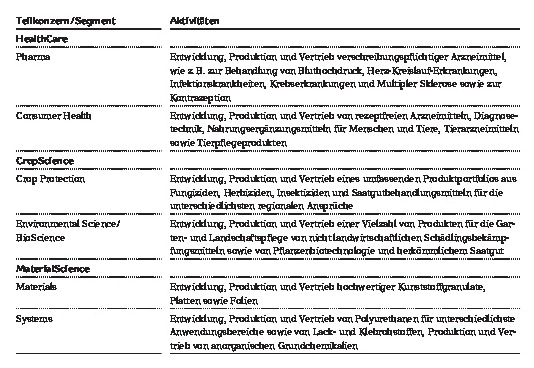table: (0, 0, 534, 368)
